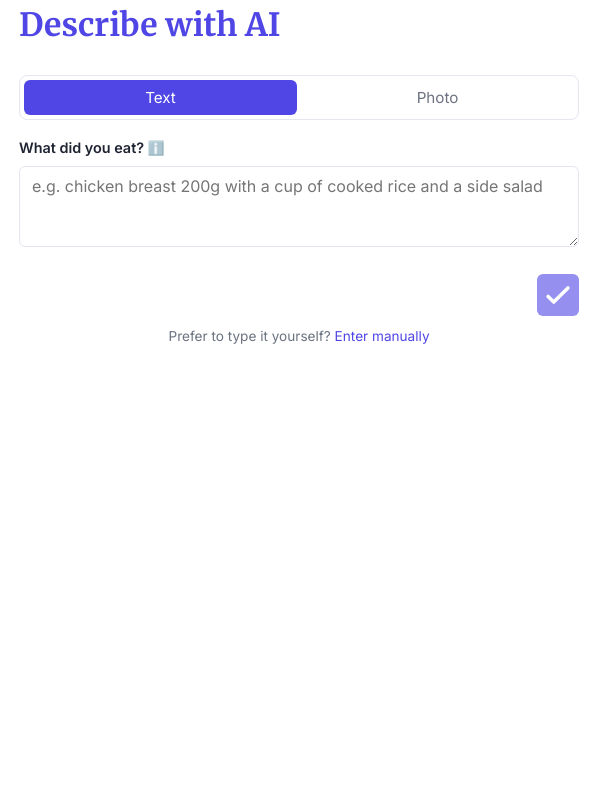
Test: AiEntryPage › undo restores the AI suggestion after manual edits
Type "rice" into the text box labelled "What did you eat? ℹ️".
click(299, 206); type("rice")  # box top-left (19, 166), bottom-right (579, 247)
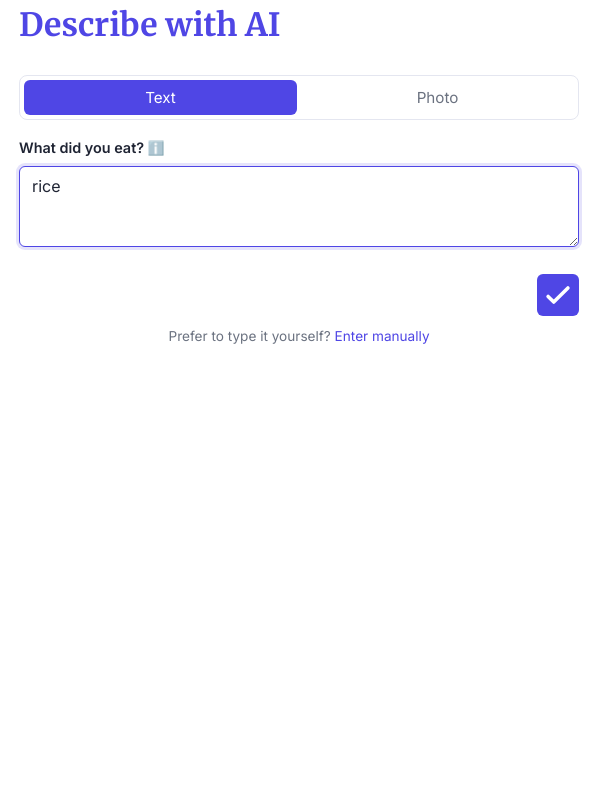
Click the button named "Estimate".
click(558, 295)  # box top-left (537, 274), bottom-right (579, 316)
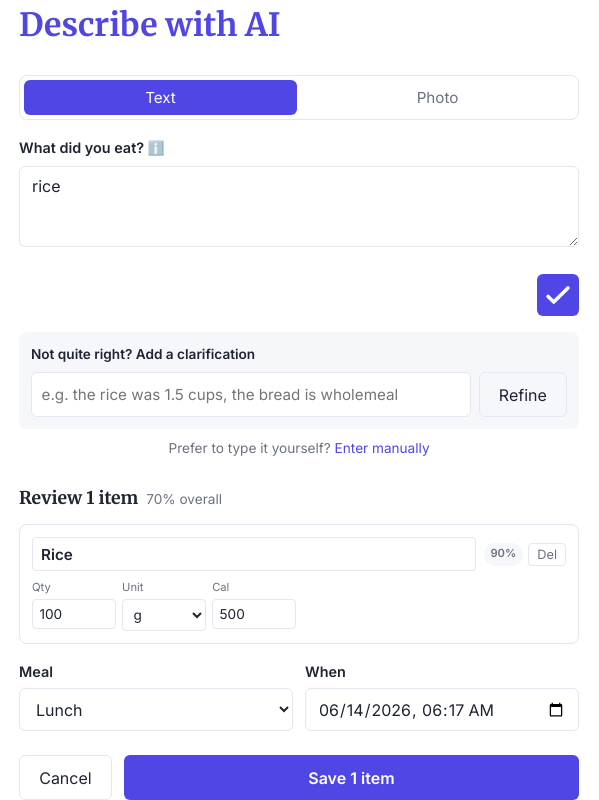
Expected: the button "undo edits" is not shown
Replace the text in the number field showing "100" with "200" at (74, 614), box top-left (32, 599), bottom-right (116, 629)
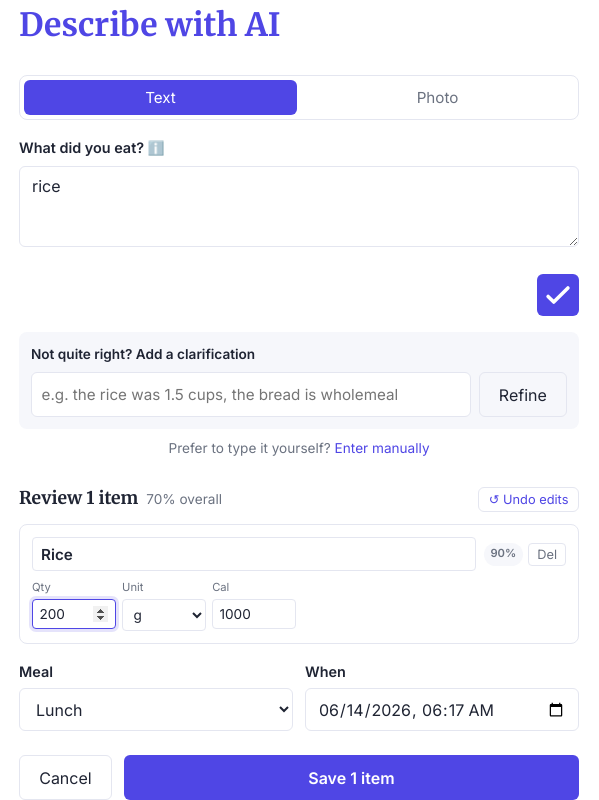
Expected: the number field showing "1000" is shown, top-left (212, 599), bottom-right (296, 629)
Click the button "↺ Undo edits".
click(529, 500)  # box top-left (478, 487), bottom-right (579, 512)
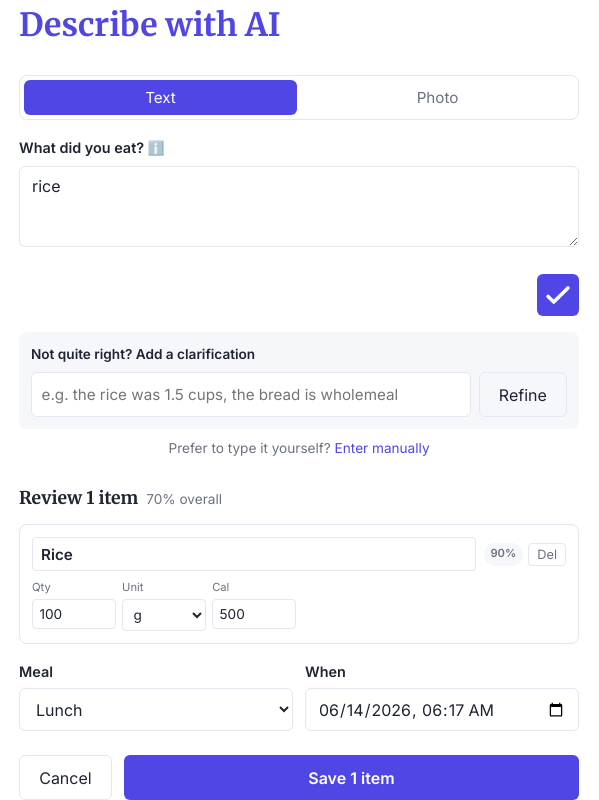
Expected: the number field showing "100" is shown, top-left (32, 599), bottom-right (116, 629)
Expected: the number field showing "500" is shown, top-left (212, 599), bottom-right (296, 629)
Expected: the button "Undo edits" is gone
